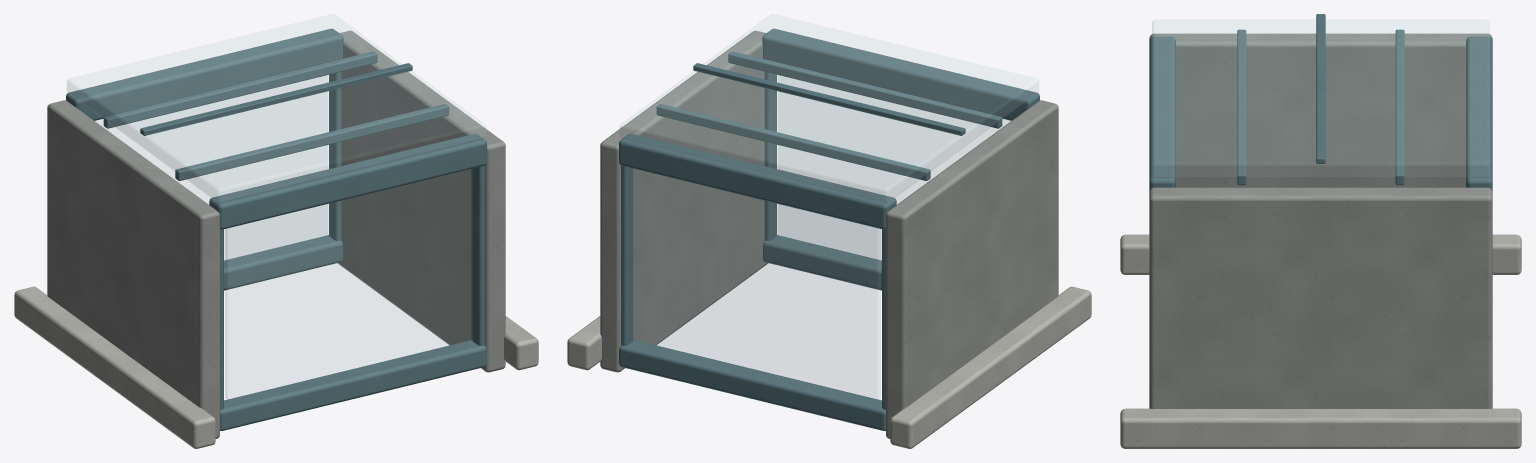
Rendered from gorgehold-survivor-gallery-and-operations-gallery-dayl-ebcd508c__32867.glb.
3 renders of one model, left to right at view 1: azimuth 30°, elevation 25°; view 2: azimuth 150°, elevation 25°; view 3: azimuth 270°, elevation 25°, orthographic. The views are drawn at different scales.
Parts seen in each view (by area): view 1: gallery-daylight-lightwell; view 2: gallery-daylight-lightwell; view 3: gallery-daylight-lightwell.
Part boxes in pixels (bbox=[...]): gallery-daylight-lightwell: bbox=[14, 14, 538, 448]; gallery-daylight-lightwell: bbox=[567, 14, 1091, 448]; gallery-daylight-lightwell: bbox=[1120, 14, 1521, 448].
Size of the model in its own units: 1.67 by 1.17 by 1.52.
Materials: 4 (3 with a texture image).
